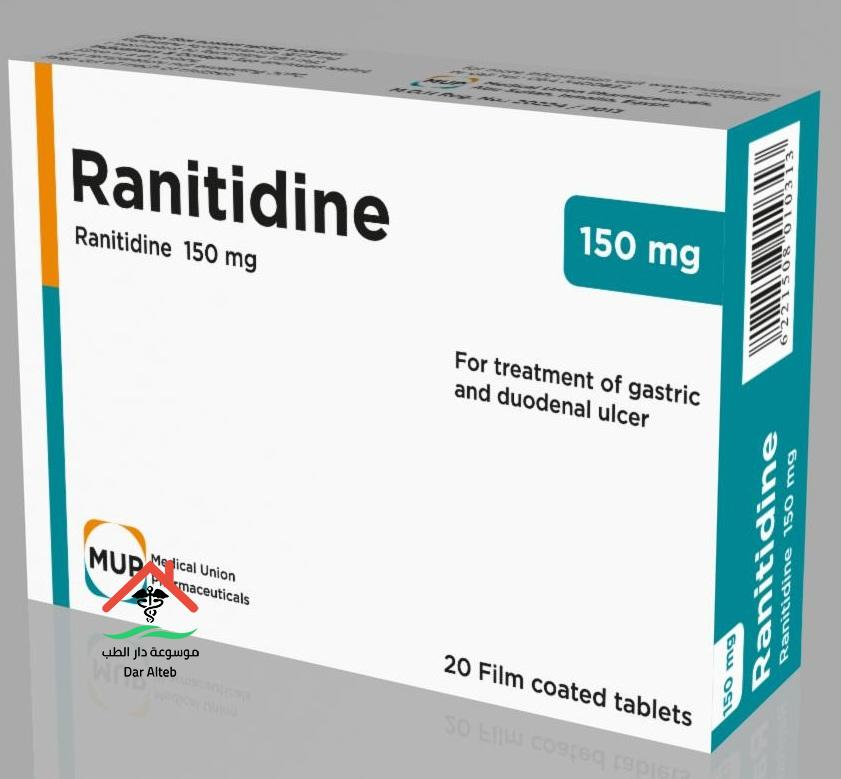Medicine: (8, 36, 841, 778)
